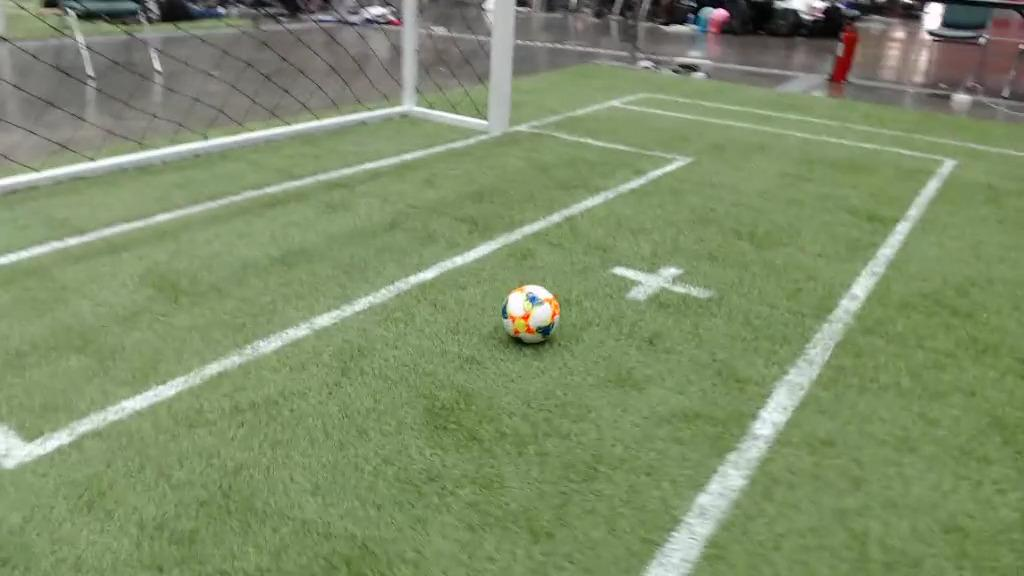ball: (501, 283, 561, 343)
